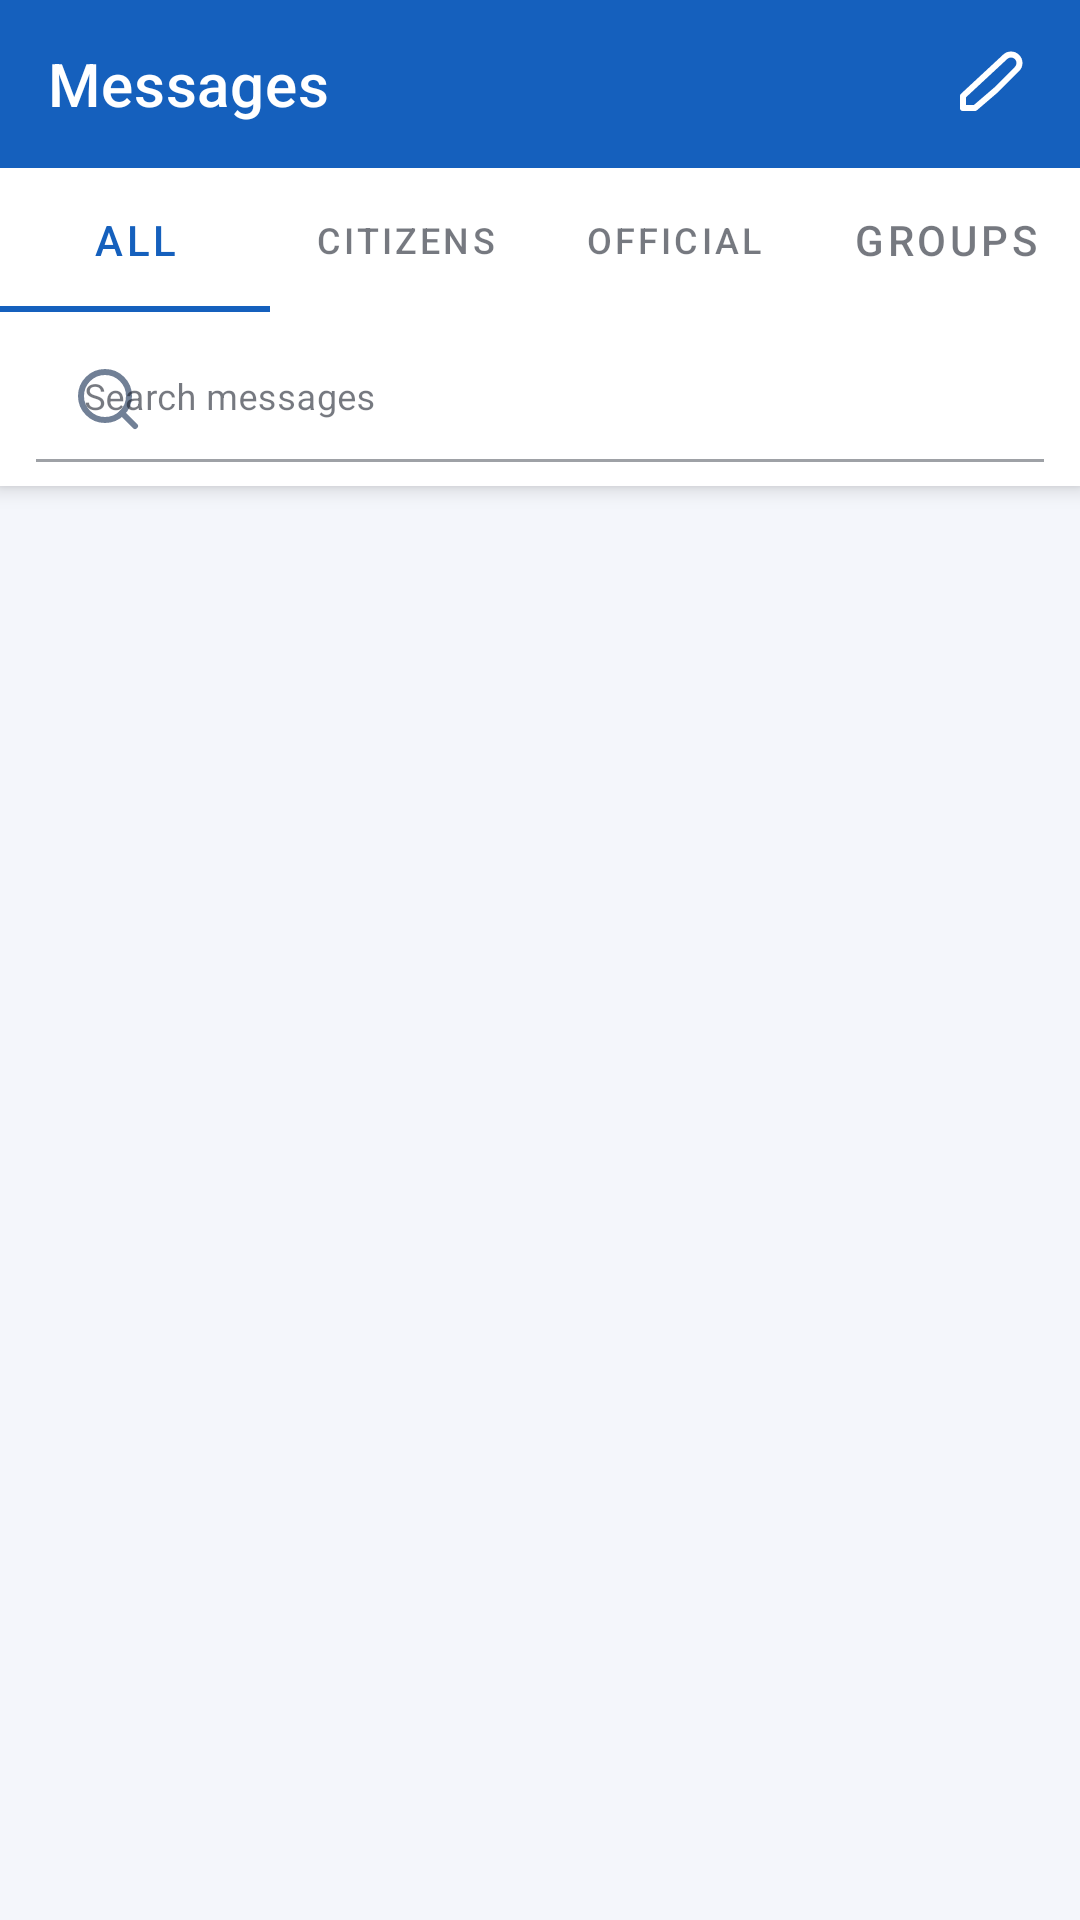

Icon bounding boxes for this 1080w x 1920h phone screenshot, format region(x1, y1, x2, y2):
Compose new message: region(960, 51, 1023, 111)
